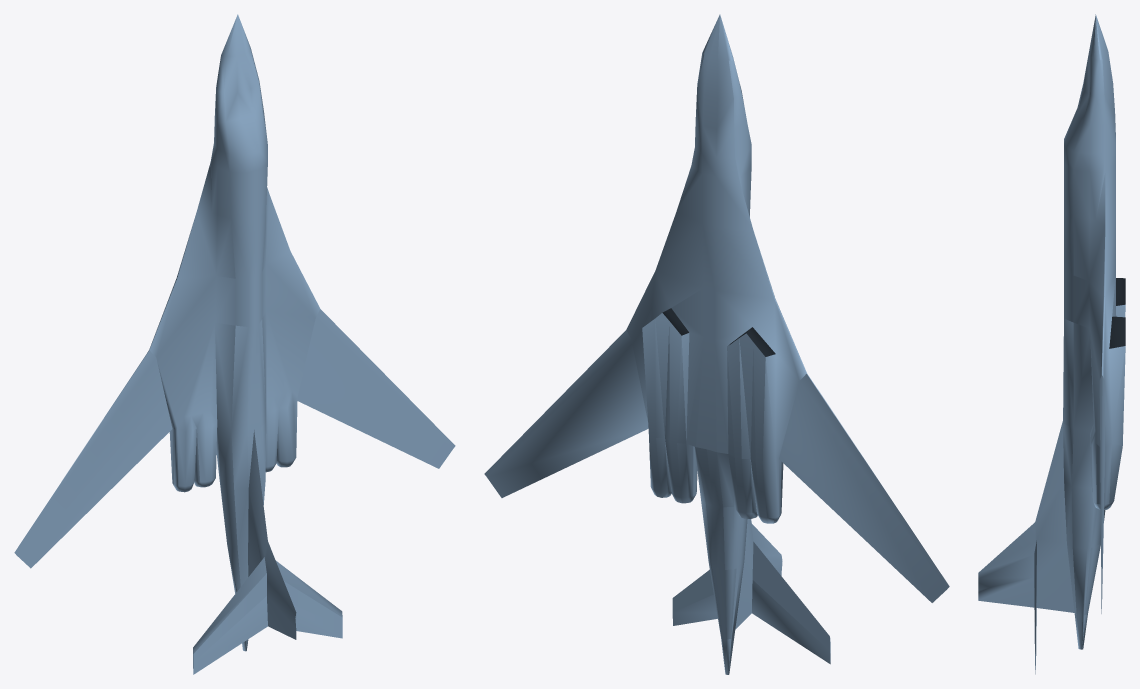
The picture shows the model from 3 angles, left to right: view 1: azimuth 30°, elevation 25°; view 2: azimuth 150°, elevation 25°; view 3: azimuth 270°, elevation 25°; orthographic projection. The views are drawn at different scales.
Parts seen in each view (by area): view 1: db_bjack_lv1_LOD child0_body_p13925_Geometry_0.001, db_bjack_lv1_LOD child0_wing2_p13968_Geometry_0.001, db_bjack_lv1_LOD child0_wing1_p13972_Geometry_0.001, db_bjack_lv1_LOD child0_hstab2_p13952_Geometry_0.001, db_bjack_lv1_LOD child0_rudder_pl93_Geometry_0.001, db_bjack_lv1_LOD child0_cpit_pl1_Geometry_0.001, db_bjack_lv1_LOD child0_hstab1_p13987_Geometry_0.001, db_bjack_lv1_LOD child0_eng4_p13927_Geometry_0.001, db_bjack_lv1_LOD child0_eng3_p13933_Geometry_0.001, db_bjack_lv1_LOD child0_eng1_p14003_Geometry_0.001, db_bjack_lv1_LOD child0_eng2_p13994_Geometry_0.001; view 2: db_bjack_lv1_LOD child0_body_p13925_Geometry_0.001, db_bjack_lv1_LOD child0_wing2_p13968_Geometry_0.001, db_bjack_lv1_LOD child0_wing1_p13972_Geometry_0.001, db_bjack_lv1_LOD child0_hstab2_p13952_Geometry_0.001, db_bjack_lv1_LOD child0_eng4_p13927_Geometry_0.001, db_bjack_lv1_LOD child0_eng2_p13994_Geometry_0.001, db_bjack_lv1_LOD child0_eng3_p13933_Geometry_0.001, db_bjack_lv1_LOD child0_eng1_p14003_Geometry_0.001, db_bjack_lv1_LOD child0_hstab1_p13987_Geometry_0.001, db_bjack_lv1_LOD child0_rudder_pl93_Geometry_0.001; view 3: db_bjack_lv1_LOD child0_body_p13925_Geometry_0.001, db_bjack_lv1_LOD child0_rudder_pl93_Geometry_0.001, db_bjack_lv1_LOD child0_eng1_p14003_Geometry_0.001, db_bjack_lv1_LOD child0_wing1_p13972_Geometry_0.001, db_bjack_lv1_LOD child0_cpit_pl1_Geometry_0.001, db_bjack_lv1_LOD child0_intakes_p13646_Geometry_0.001, db_bjack_lv1_LOD child0_hstab1_p13987_Geometry_0.001.
Part boxes in pixels (<box>): db_bjack_lv1_LOD child0_body_p13925_Geometry_0.001: <box>149,14,320,651</box>; db_bjack_lv1_LOD child0_wing2_p13968_Geometry_0.001: <box>14,350,172,568</box>; db_bjack_lv1_LOD child0_wing1_p13972_Geometry_0.001: <box>297,309,455,468</box>; db_bjack_lv1_LOD child0_hstab2_p13952_Geometry_0.001: <box>193,557,267,674</box>; db_bjack_lv1_LOD child0_rudder_pl93_Geometry_0.001: <box>248,430,296,639</box>; db_bjack_lv1_LOD child0_cpit_pl1_Geometry_0.001: <box>217,111,267,172</box>; db_bjack_lv1_LOD child0_hstab1_p13987_Geometry_0.001: <box>275,560,342,638</box>; db_bjack_lv1_LOD child0_eng4_p13927_Geometry_0.001: <box>169,415,196,486</box>; db_bjack_lv1_LOD child0_eng3_p13933_Geometry_0.001: <box>195,411,217,481</box>; db_bjack_lv1_LOD child0_eng1_p14003_Geometry_0.001: <box>276,390,297,461</box>; db_bjack_lv1_LOD child0_eng2_p13994_Geometry_0.001: <box>265,395,278,466</box>; db_bjack_lv1_LOD child0_body_p13925_Geometry_0.001: <box>626,14,806,674</box>; db_bjack_lv1_LOD child0_wing2_p13968_Geometry_0.001: <box>779,373,949,602</box>; db_bjack_lv1_LOD child0_wing1_p13972_Geometry_0.001: <box>484,330,648,497</box>; db_bjack_lv1_LOD child0_hstab2_p13952_Geometry_0.001: <box>752,541,830,664</box>; db_bjack_lv1_LOD child0_eng4_p13927_Geometry_0.001: <box>750,342,783,517</box>; db_bjack_lv1_LOD child0_eng2_p13994_Geometry_0.001: <box>665,321,697,497</box>; db_bjack_lv1_LOD child0_eng3_p13933_Geometry_0.001: <box>727,338,756,513</box>; db_bjack_lv1_LOD child0_eng1_p14003_Geometry_0.001: <box>642,319,671,492</box>; db_bjack_lv1_LOD child0_hstab1_p13987_Geometry_0.001: <box>672,569,717,625</box>; db_bjack_lv1_LOD child0_rudder_pl93_Geometry_0.001: <box>735,519,782,629</box>; db_bjack_lv1_LOD child0_body_p13925_Geometry_0.001: <box>1063,14,1125,649</box>; db_bjack_lv1_LOD child0_rudder_pl93_Geometry_0.001: <box>978,421,1074,612</box>; db_bjack_lv1_LOD child0_eng1_p14003_Geometry_0.001: <box>1091,347,1125,504</box>; db_bjack_lv1_LOD child0_wing1_p13972_Geometry_0.001: <box>1099,375,1105,613</box>; db_bjack_lv1_LOD child0_cpit_pl1_Geometry_0.001: <box>1064,108,1089,169</box>; db_bjack_lv1_LOD child0_intakes_p13646_Geometry_0.001: <box>1109,278,1125,348</box>; db_bjack_lv1_LOD child0_hstab1_p13987_Geometry_0.001: <box>1034,540,1036,674</box>.
Bounding box in the file's own units: 40.17 × 54.89 × 11.55.
